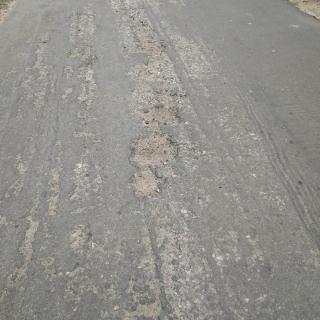pothole: (127, 89, 182, 199), (129, 21, 169, 85)
